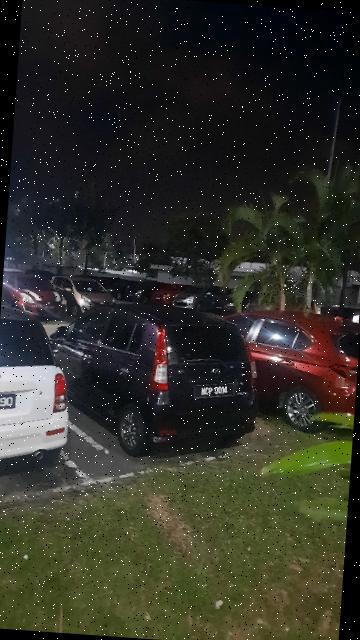License_Plate: (192, 378, 245, 405)
car: (43, 293, 266, 460), (212, 302, 360, 437), (1, 298, 78, 481)
